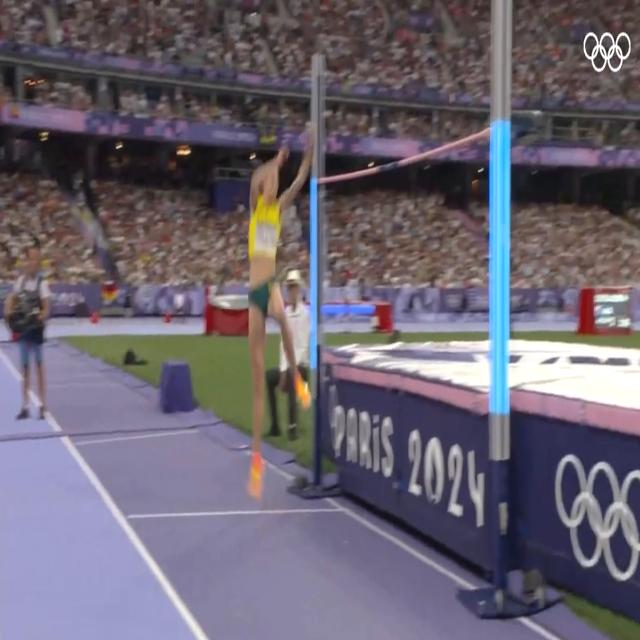jump: (240, 130, 315, 497)
